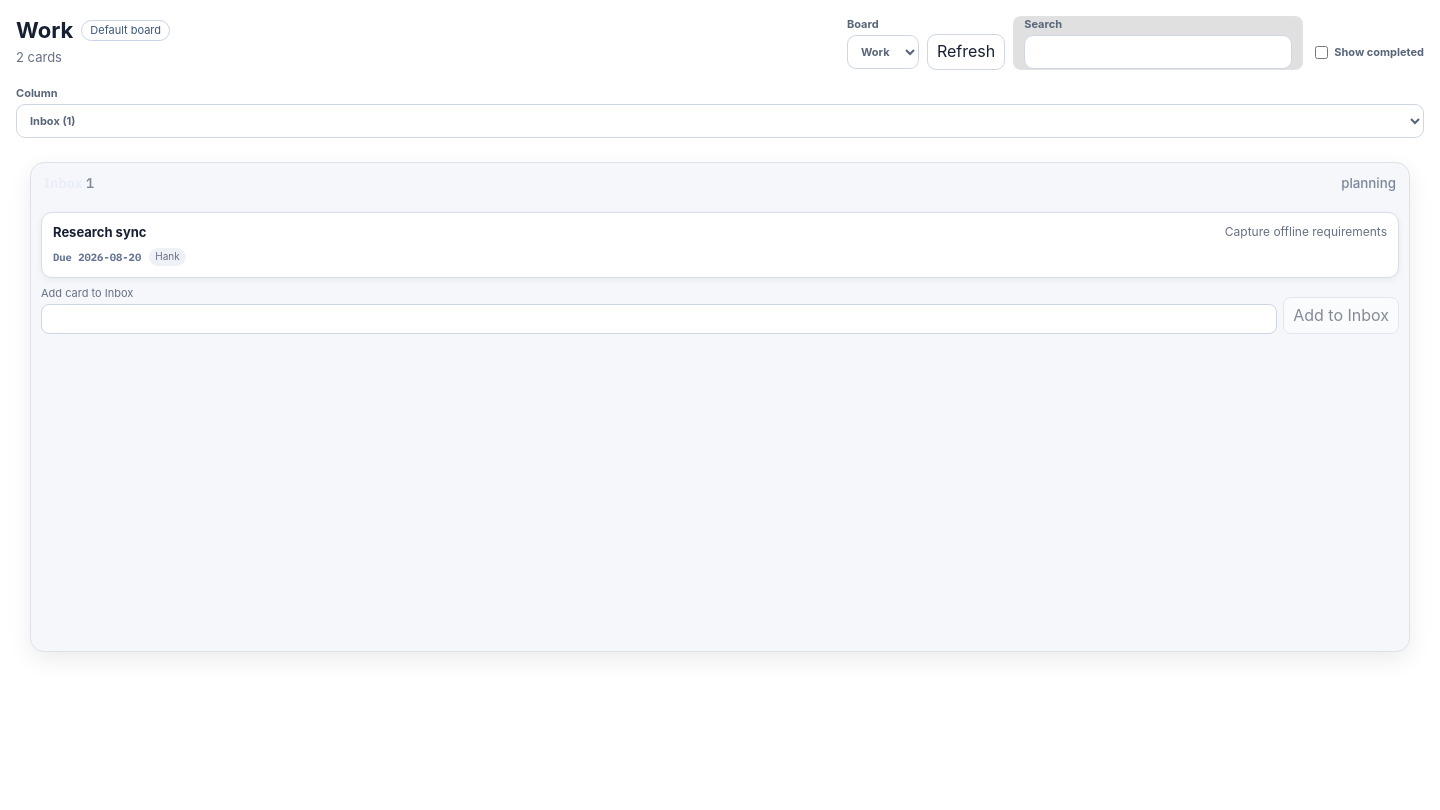
KanbanApp browsing › uses a single-column selector in narrow mode
Click the checkbox named "Show completed cards".
click(1322, 53)  # box [1315,46,1328,59]
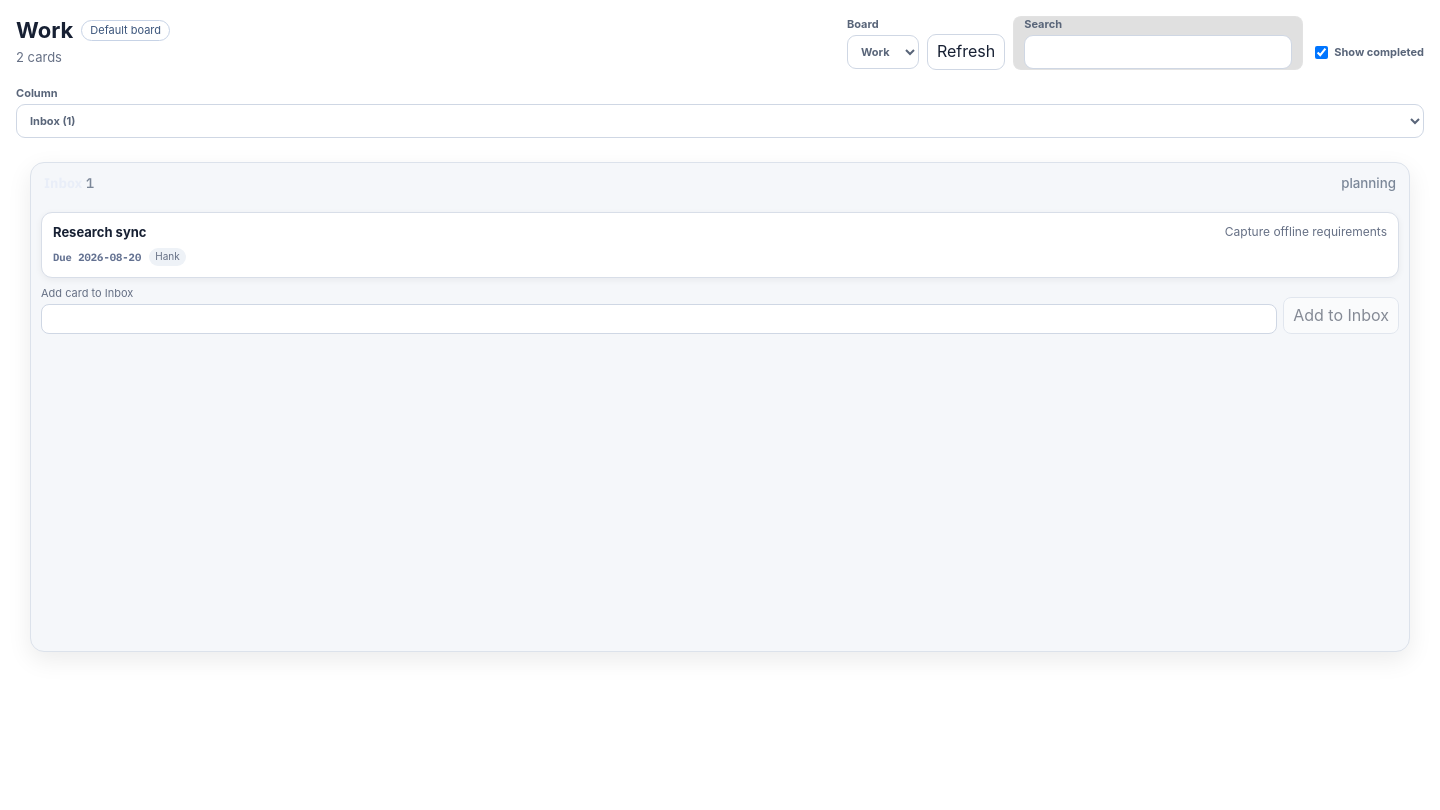
Select "Done (1)" in the dropdown labelled "Column" at (720, 121), box [16,104,1424,138]
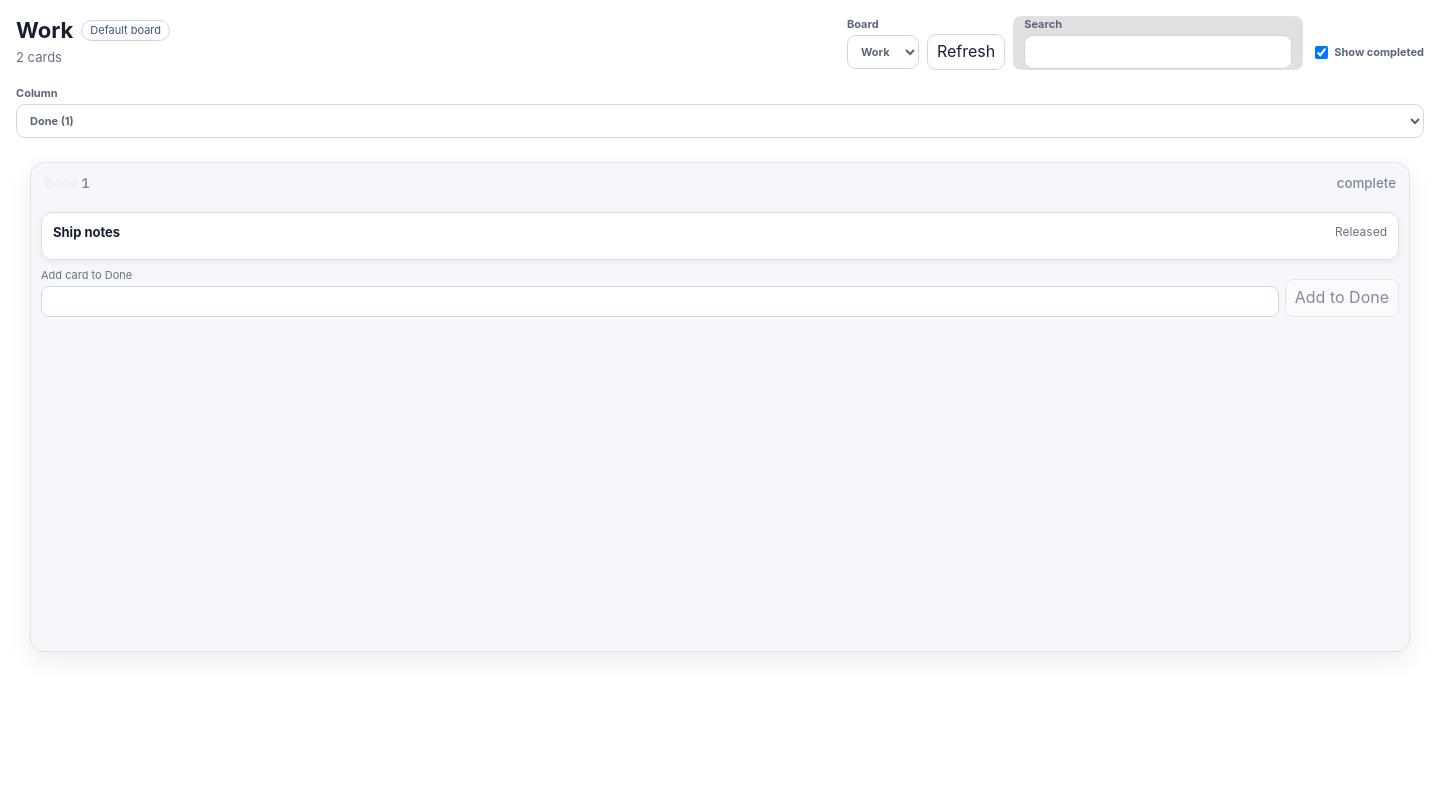
Check: the button "Ship notes Released" is shown, box [41,212,1399,260]
Check: the button "Research sync" is gone
